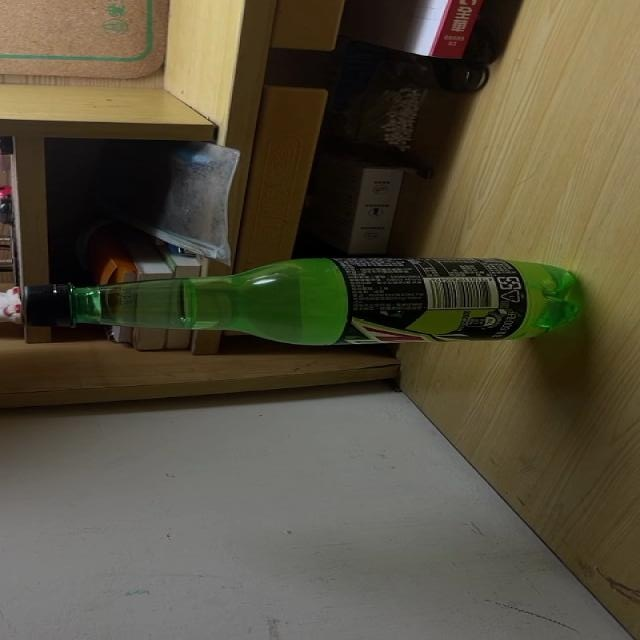Mountain-Dew: (27, 256, 581, 346)
